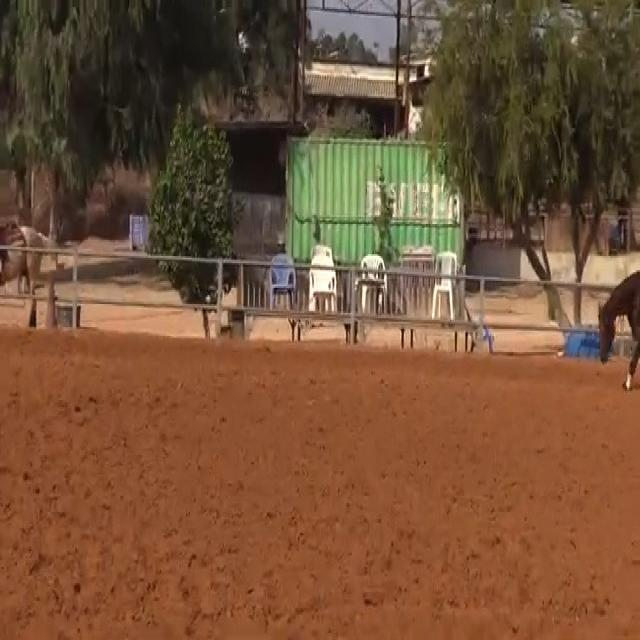horse: (595, 267, 638, 391)
